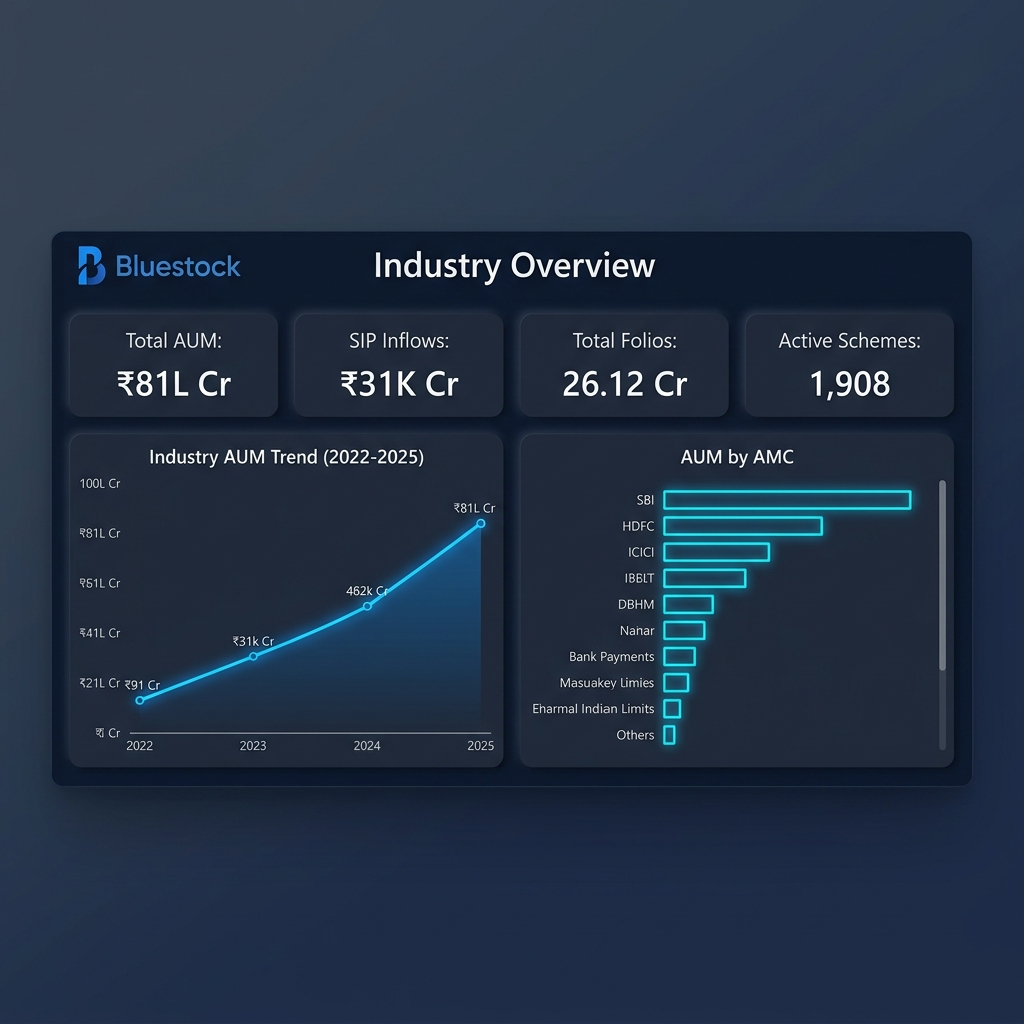

This screenshot's page, from the dashboard's own definition file:
{"tool":"powerbi","page":{"name":"Industry Overview","canvas":[1280,720],"ordinal":0},"visuals":[{"type":"cardVisual","fields":{"Data":["Avg(fund_scorecard.composite_score)"]},"box":[0,0,280,116.7],"z":0},{"type":"textbox","box":[507.1,0,190,95.7],"z":1000},{"type":"textbox","box":[697.1,0,174.3,91.4],"z":2000},{"type":"textbox","box":[871.4,0,178.6,97.1],"z":3000},{"type":"textbox","box":[1050,0,140,112.9],"z":4000},{"type":"lineChart","fields":{"Y":["Sum(Industry_Trend.Industry AUM( lakh cr))"],"Category":["Industry_Trend.Year"]},"box":[688.3,113.3,541.7,588.3],"z":5000},{"type":"clusteredBarChart","fields":{"Category":["fund_scorecard.scheme_name"],"Y":["Sum(fund_scorecard.composite_score)"]},"box":[66.7,96.7,556.7,623.3],"z":6000}]}

Visuals, with their boxes on the page's 1280x720 design canvas (x1, y1, x2, y2). These are canvas units, not pixel positions in the 1024x1024 screenshot, which may show the page scaled, cropped or inside an application window:
cardVisual - Avg(fund_scorecard.composite_score): bbox=(0, 0, 280, 117)
textbox: bbox=(507, 0, 697, 96)
textbox: bbox=(697, 0, 871, 91)
textbox: bbox=(871, 0, 1050, 97)
textbox: bbox=(1050, 0, 1190, 113)
lineChart - Sum(Industry_Trend.Industry AUM( lakh cr)) x Industry_Trend.Year: bbox=(688, 113, 1230, 702)
clusteredBarChart - fund_scorecard.scheme_name x Sum(fund_scorecard.composite_score): bbox=(67, 97, 623, 720)
